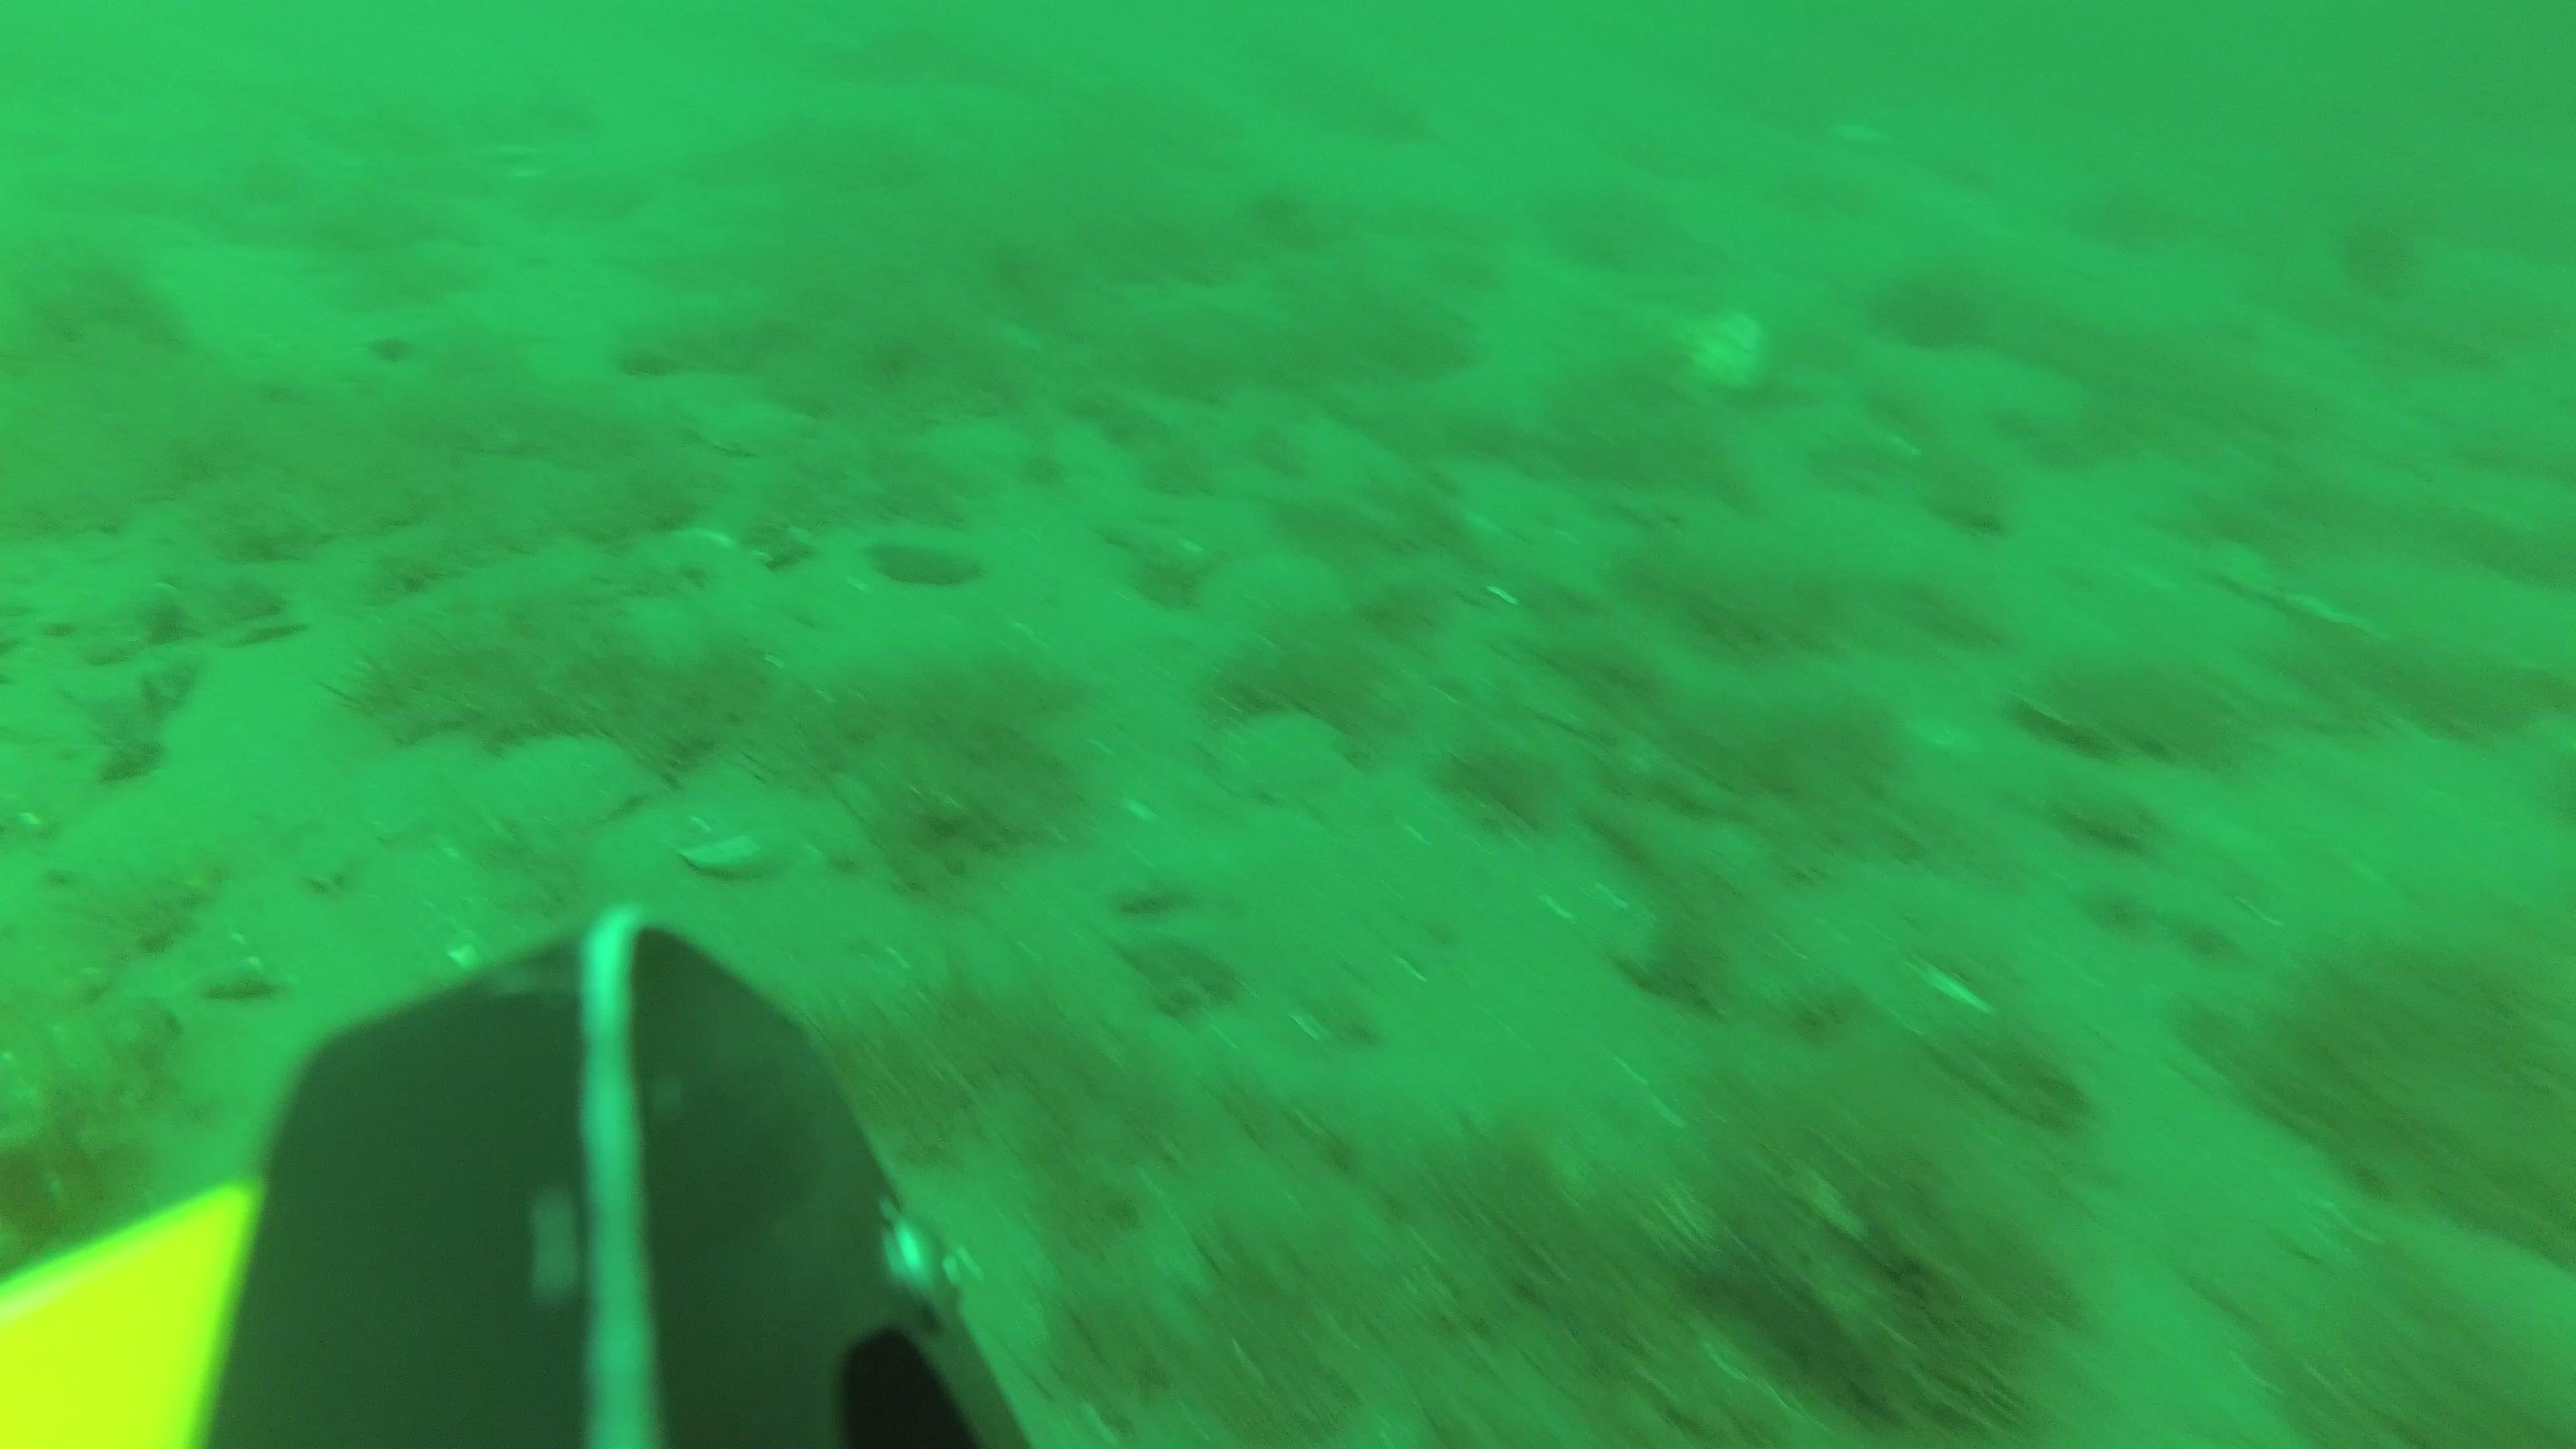scallop: (479, 738, 653, 833), (1215, 713, 1350, 805), (1677, 311, 1775, 412)
